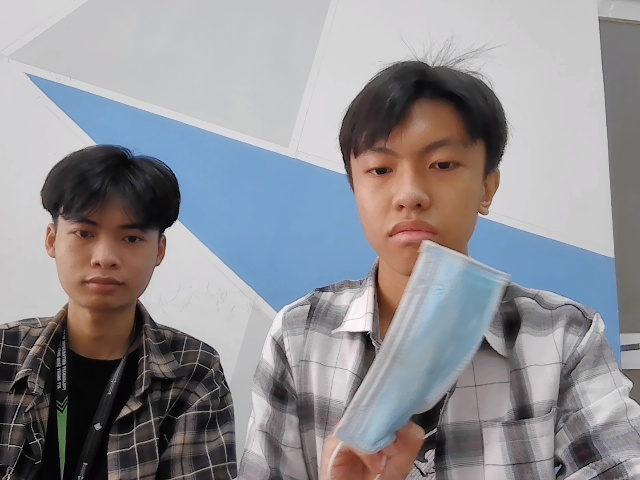human: (334, 70, 505, 260), (27, 139, 191, 311)
mask: (345, 237, 515, 453)
